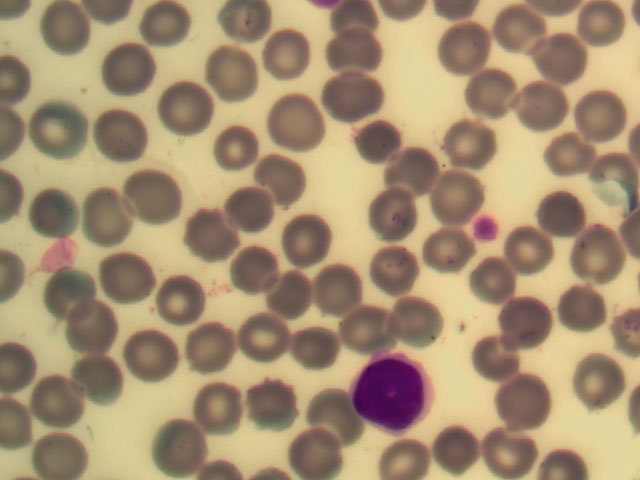Platelets: (35, 237, 79, 271), (475, 217, 498, 243)
RBC: (101, 43, 159, 95), (91, 108, 149, 160), (30, 104, 88, 156), (76, 185, 134, 237), (20, 184, 78, 236), (120, 171, 178, 223), (170, 203, 228, 255), (210, 189, 268, 241), (251, 157, 309, 209), (197, 120, 255, 172), (151, 87, 209, 139), (203, 44, 261, 96), (256, 27, 314, 79), (270, 95, 328, 147), (274, 220, 332, 272), (229, 242, 287, 294), (256, 261, 314, 313), (233, 311, 291, 363), (184, 320, 242, 372), (153, 276, 211, 328), (126, 329, 184, 381), (105, 250, 163, 302), (39, 266, 97, 318), (65, 304, 123, 356), (73, 357, 131, 409), (29, 377, 87, 429), (23, 428, 81, 480), (147, 428, 205, 480), (192, 388, 250, 440), (235, 375, 293, 427), (301, 388, 359, 440), (287, 428, 345, 480), (290, 323, 348, 375), (335, 302, 393, 354), (317, 263, 375, 315), (370, 243, 428, 295), (368, 195, 426, 247), (386, 142, 444, 194), (350, 118, 408, 170), (322, 68, 380, 120), (330, 26, 388, 78), (444, 23, 502, 75), (465, 60, 523, 112), (453, 110, 511, 162), (437, 162, 495, 214), (416, 223, 474, 275), (464, 254, 522, 306), (500, 226, 558, 278), (533, 189, 591, 241), (535, 127, 593, 179), (567, 87, 625, 139), (509, 79, 567, 131), (525, 34, 583, 86), (495, 8, 553, 60), (565, 221, 623, 273), (556, 274, 614, 326), (491, 298, 549, 350), (474, 332, 532, 384), (498, 371, 556, 423), (570, 357, 628, 409), (485, 428, 543, 480), (431, 428, 489, 480), (377, 428, 435, 480), (33, 1, 91, 52), (222, 1, 280, 52), (139, 1, 197, 52)
WBC: (353, 356, 434, 433)
